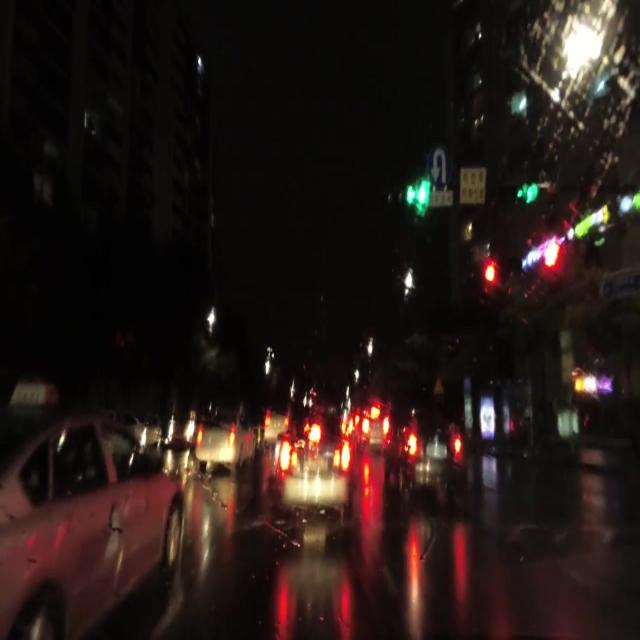Car: (6, 421, 182, 606), (274, 424, 347, 515), (391, 420, 463, 492), (192, 403, 251, 465), (352, 399, 389, 446), (261, 403, 290, 441), (165, 406, 192, 443)
